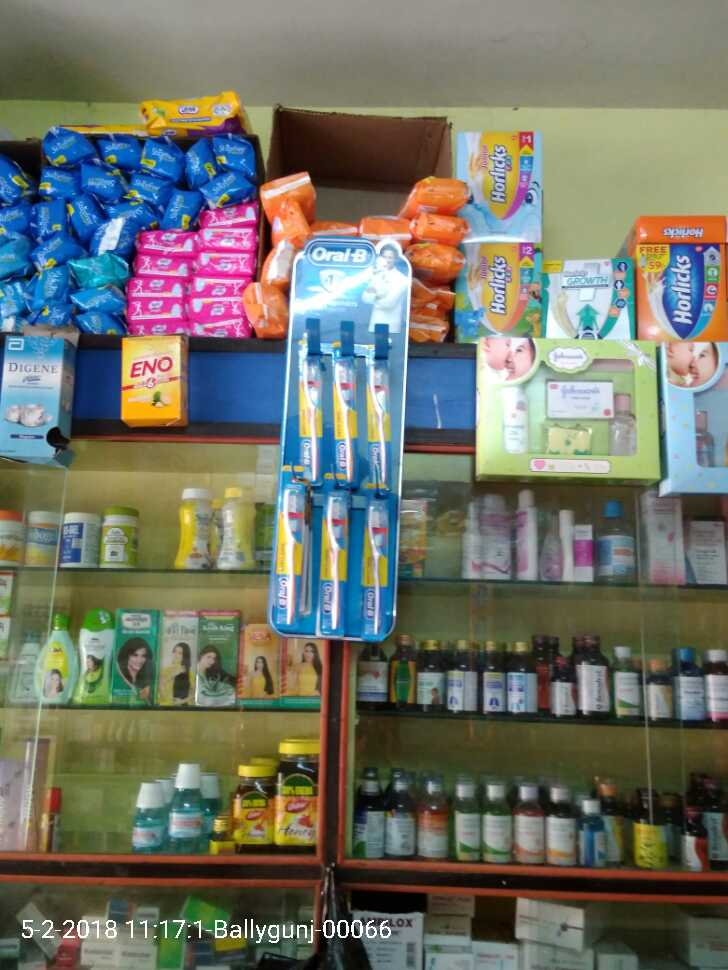oralb: (270, 480, 306, 623), (327, 351, 363, 485), (318, 498, 350, 630), (290, 351, 322, 482), (361, 505, 393, 635), (365, 358, 390, 483)
